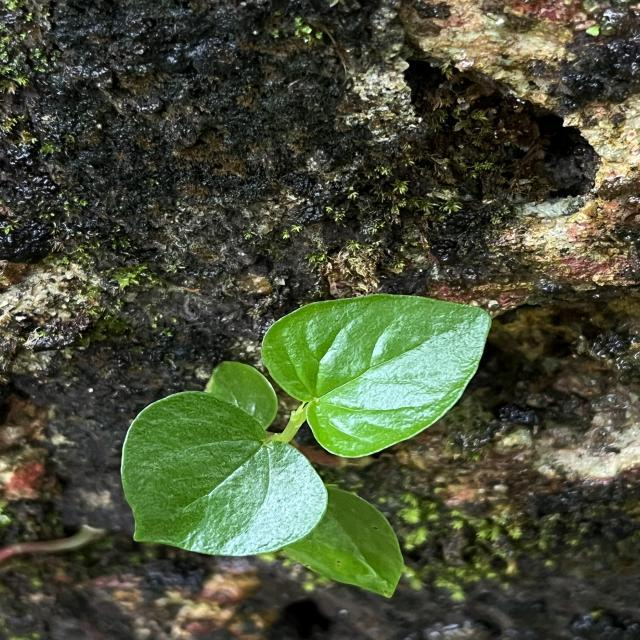Peperomia pellucida: (258, 292, 494, 460), (118, 388, 330, 558)
